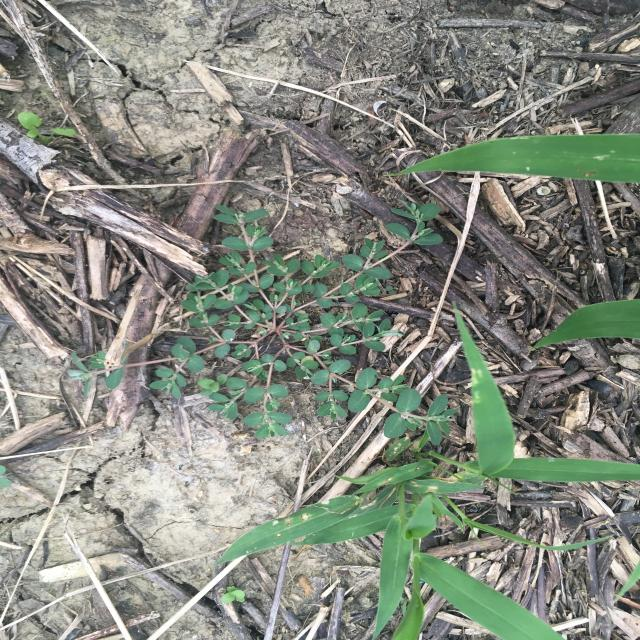SpottedSpurge: (65, 199, 462, 446)
